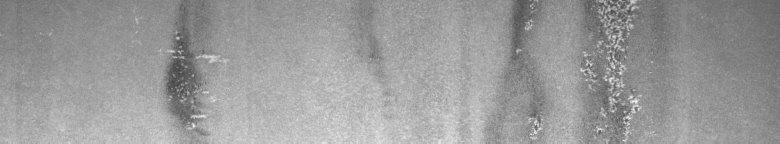hc: (160, 28, 220, 131)
